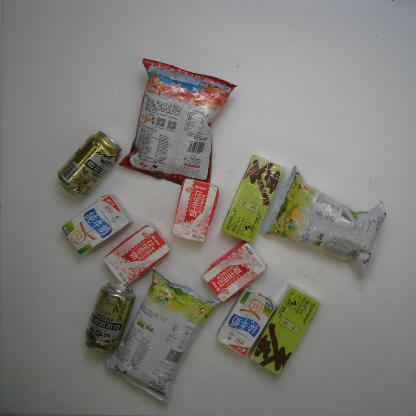Alcohol: (52, 130, 122, 198), (83, 280, 135, 355)
Instant Drink: (247, 284, 322, 376), (222, 153, 285, 244)
Milk: (60, 194, 131, 258), (102, 222, 172, 286), (216, 286, 276, 357), (201, 242, 268, 303), (171, 172, 219, 243)
Puffed Food: (103, 266, 218, 408), (118, 56, 238, 187), (258, 164, 388, 274)
